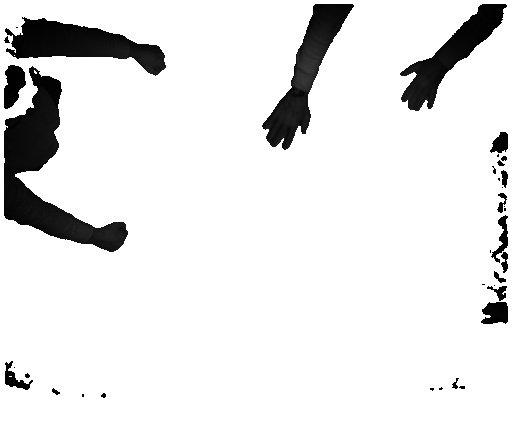fist: (98, 216, 127, 255), (137, 43, 167, 79)
hand: (256, 98, 311, 151), (400, 61, 444, 111)
